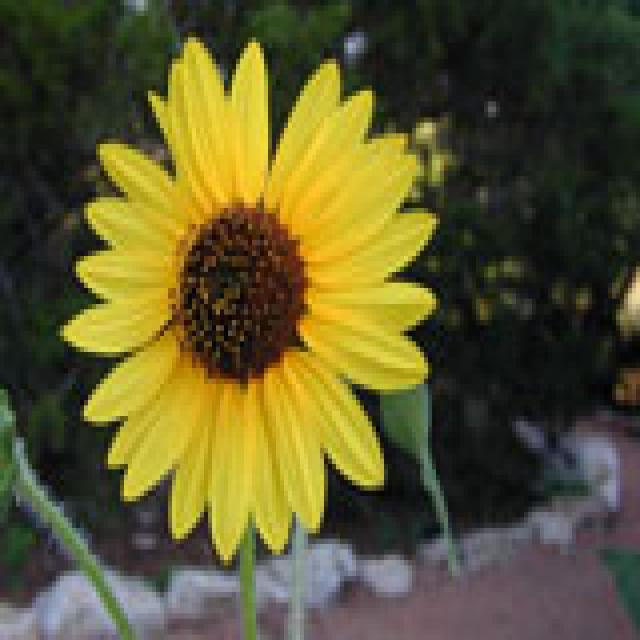sunflower: (53, 32, 451, 569), (378, 120, 464, 208), (614, 251, 640, 351)
